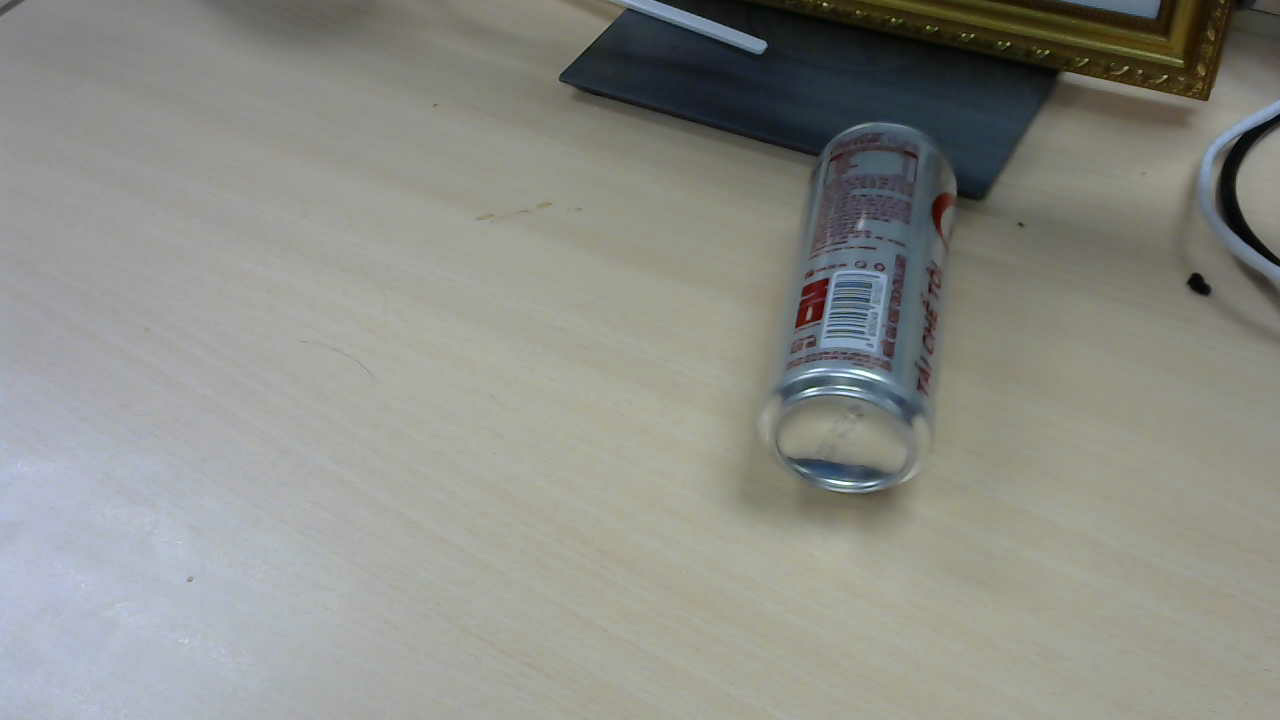Coca_Cola: (764, 123, 965, 503)
